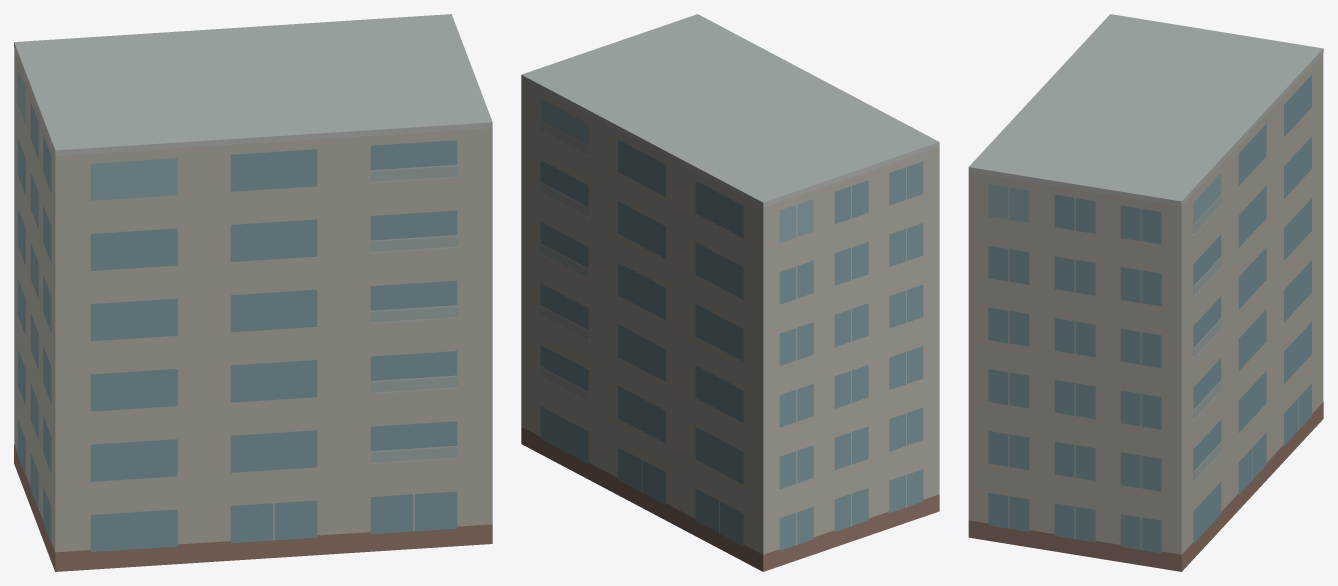
The model's file is survey-upis-32724851.glb.
3 renders of one model, left to right at view 1: azimuth 30°, elevation 25°; view 2: azimuth 150°, elevation 25°; view 3: azimuth 270°, elevation 25°, orthographic. The views are drawn at different scales.
Visible parts, largest first — view 1: survey-upis-32724851.tmp; view 2: survey-upis-32724851.tmp; view 3: survey-upis-32724851.tmp.
Boxes of the visible parts, bbox=[...] form: survey-upis-32724851.tmp: bbox=[14, 14, 492, 571]; survey-upis-32724851.tmp: bbox=[521, 14, 939, 571]; survey-upis-32724851.tmp: bbox=[968, 14, 1323, 571].
Size of the model in its own units: 19.86 by 18.3 by 15.9.
